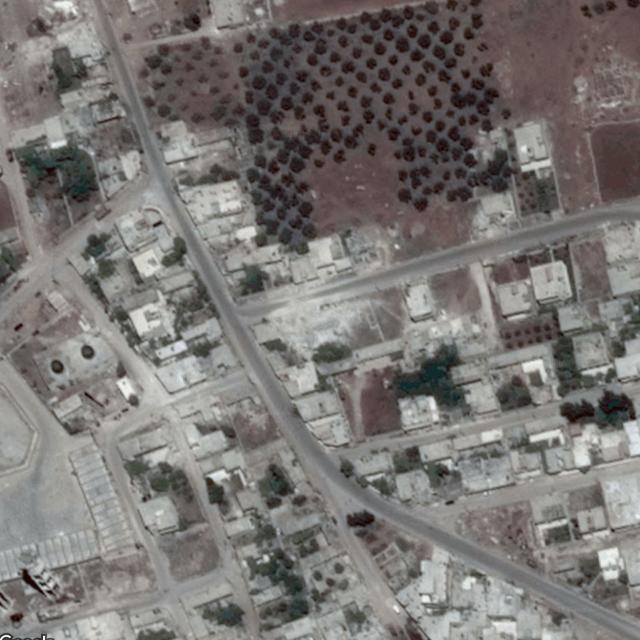damaged_building: (252, 301, 365, 358), (57, 83, 126, 137), (40, 18, 104, 58)
